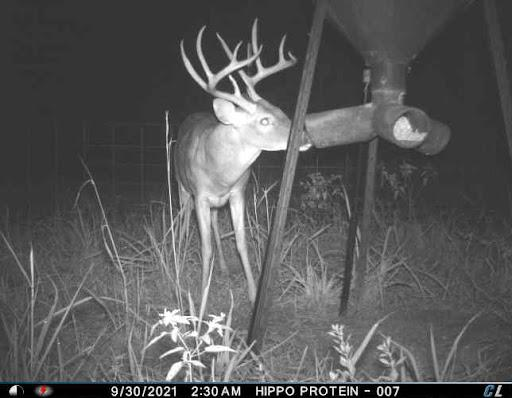Deer: (166, 13, 315, 315)
